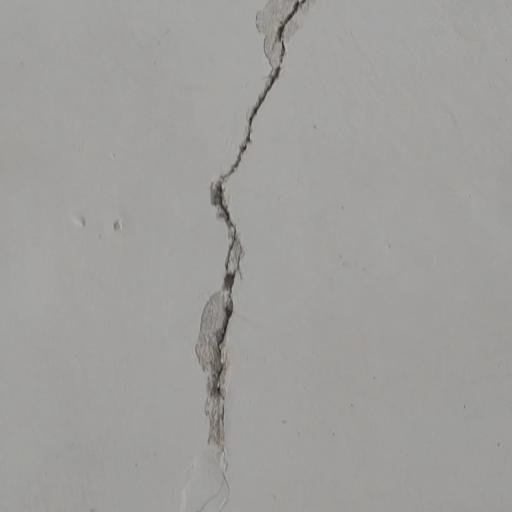major_crack: (184, 0, 313, 512)
